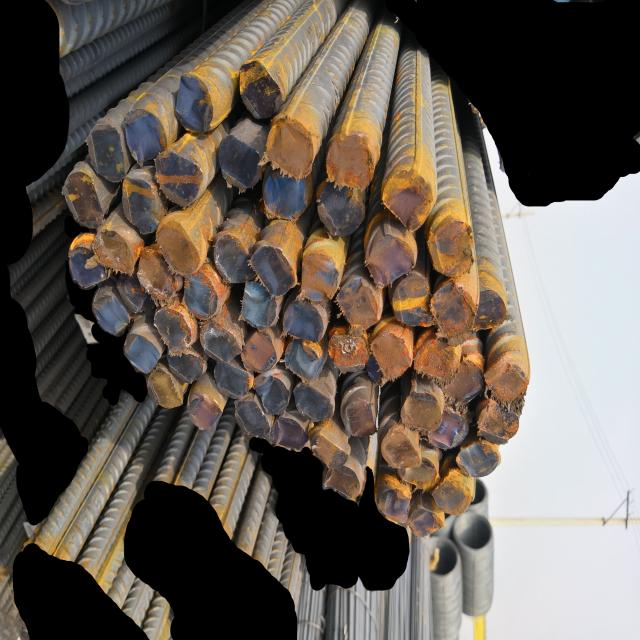Steel-Rod: (384, 171, 433, 232), (428, 214, 475, 277), (152, 148, 203, 206), (236, 59, 283, 119), (259, 168, 309, 223), (156, 219, 205, 275), (269, 120, 313, 181), (432, 279, 473, 344), (64, 166, 106, 229), (217, 139, 264, 195), (318, 183, 367, 236), (119, 176, 163, 235), (249, 243, 296, 298), (126, 107, 167, 167), (326, 137, 376, 186), (133, 245, 177, 300), (293, 374, 341, 423), (89, 123, 126, 185), (213, 234, 257, 286), (91, 227, 139, 274), (178, 69, 214, 131), (298, 248, 337, 301), (373, 233, 413, 284), (377, 326, 413, 382), (181, 269, 225, 314), (341, 395, 381, 444), (330, 328, 369, 378), (92, 285, 130, 336), (481, 398, 523, 444), (487, 364, 528, 409), (377, 428, 422, 469), (341, 282, 381, 328), (241, 323, 281, 369), (278, 337, 323, 377), (415, 339, 455, 382), (433, 474, 473, 516), (213, 356, 252, 399), (406, 392, 444, 436), (159, 308, 196, 353), (447, 358, 483, 403), (169, 348, 209, 387), (458, 436, 499, 474), (286, 296, 323, 338), (236, 392, 269, 439), (474, 283, 506, 331), (245, 275, 277, 323), (70, 245, 104, 288), (125, 331, 159, 371), (200, 323, 242, 355), (325, 467, 362, 503), (253, 377, 288, 415), (148, 369, 181, 409), (433, 409, 464, 451), (185, 396, 224, 429), (400, 449, 435, 485), (311, 434, 347, 468), (271, 415, 305, 450), (409, 505, 438, 542), (379, 485, 411, 518)
